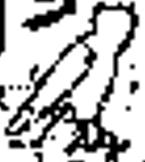Owl: (6, 0, 140, 158)
